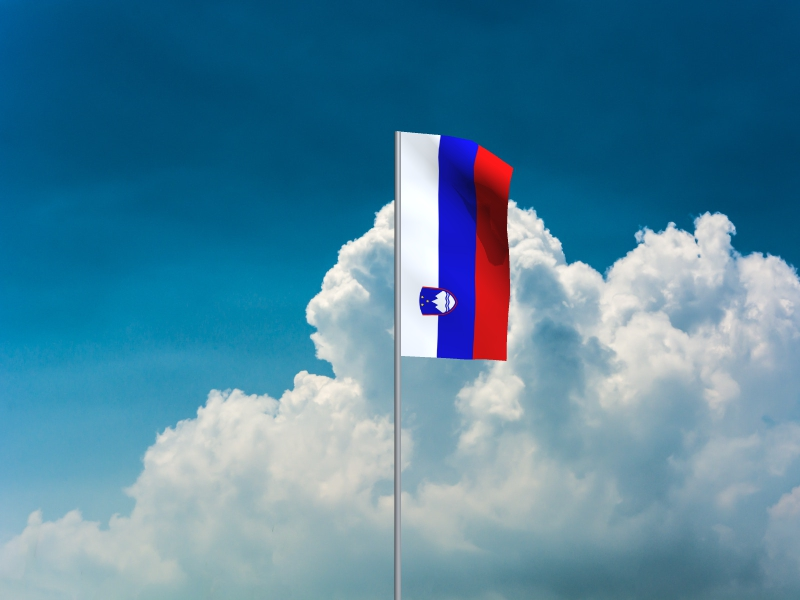si: (401, 133, 514, 362)
